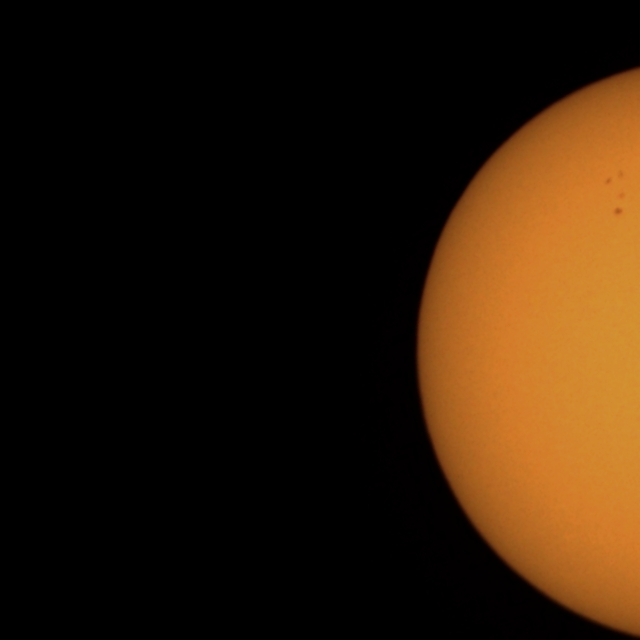sunspot: (604, 169, 626, 190), (612, 190, 627, 218), (612, 205, 624, 217), (604, 175, 614, 186)
